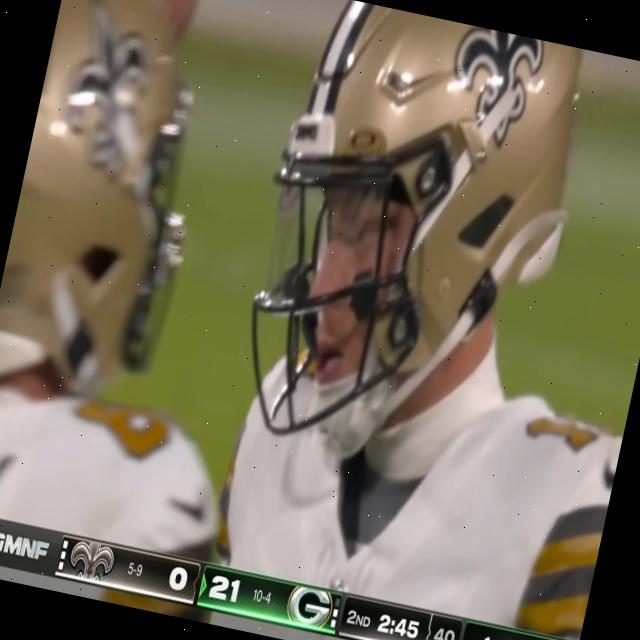Player: (207, 0, 640, 636), (0, 0, 326, 564)
